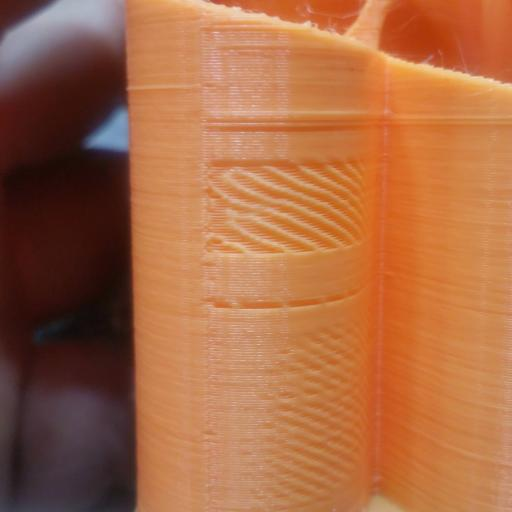cracks: (205, 150, 377, 258), (203, 285, 376, 323)
